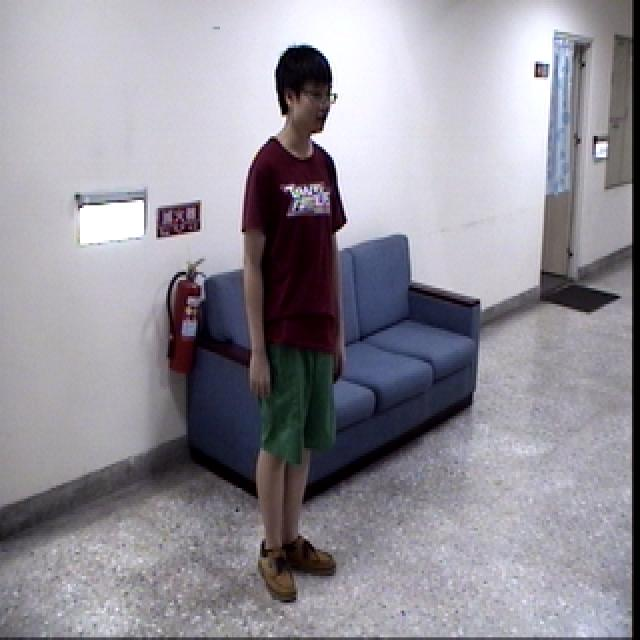stand: (229, 31, 366, 616)
